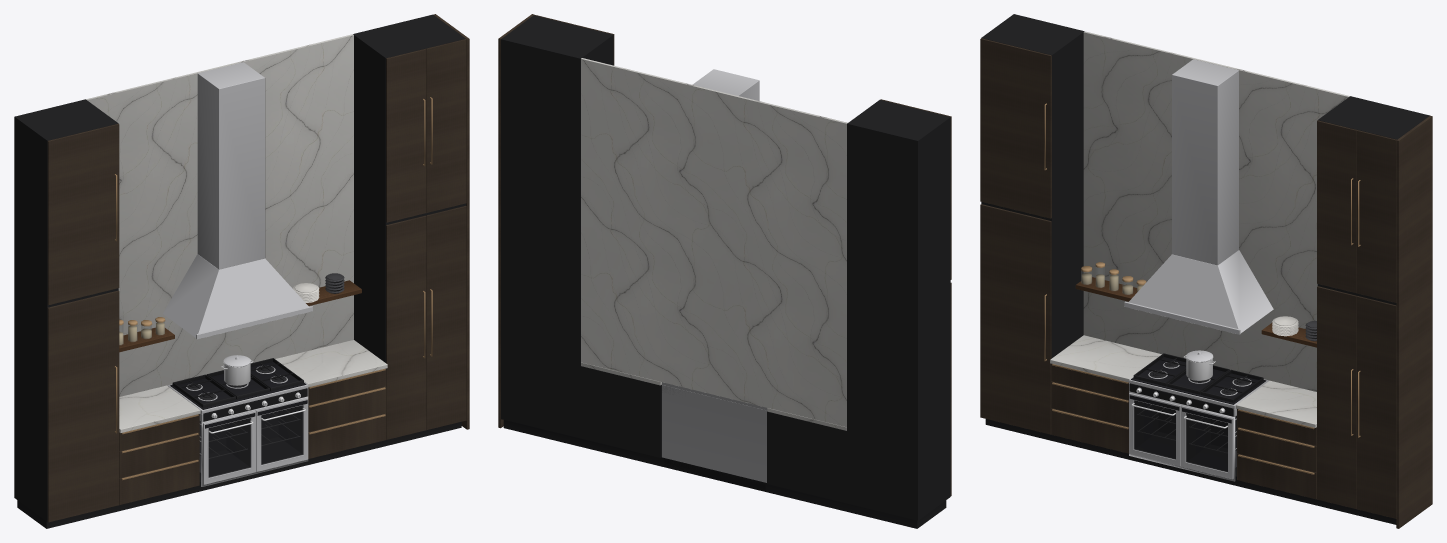
File: kitchen_range_wall.gltf
The picture shows the model from 3 angles, left to right: view 1: azimuth 30°, elevation 25°; view 2: azimuth 150°, elevation 25°; view 3: azimuth 330°, elevation 25°; orthographic projection.
Visible parts, largest first — view 1: KitchenRangeWall_Slab, KitchenRangeWall_tall_l_Lower_Door, KitchenRangeWall_tall_l_Body, KitchenRangeWall_Chimney, KitchenRangeWall_tall_r_Body, KitchenRangeWall_tall_l_Upper_Door, KitchenRangeWall_tall_r_Lower_DoorR, KitchenRangeWall_tall_r_Lower_DoorL, KitchenRangeWall_Hood, KitchenRangeWall_tall_r_Upper_DoorR, KitchenRangeWall_tall_r_Upper_DoorL, KitchenRangeWall_Counter_base_r (+22 smaller); view 2: KitchenRangeWall_Slab, KitchenRangeWall_tall_l_Body, KitchenRangeWall_tall_r_Body, KitchenRangeWall_Range_Body, KitchenRangeWall_base_r_Body, KitchenRangeWall_base_l_Body, KitchenRangeWall_Plinth, KitchenRangeWall_EndPanel, KitchenRangeWall_Chimney, KitchenRangeWall_Range_Toe; view 3: KitchenRangeWall_Slab, KitchenRangeWall_tall_l_Lower_Door, KitchenRangeWall_EndPanel, KitchenRangeWall_Chimney, KitchenRangeWall_tall_l_Body, KitchenRangeWall_tall_l_Upper_Door, KitchenRangeWall_tall_r_Lower_DoorR, KitchenRangeWall_tall_r_Lower_DoorL, KitchenRangeWall_Hood, KitchenRangeWall_tall_r_Upper_DoorR, KitchenRangeWall_tall_r_Upper_DoorL, KitchenRangeWall_Counter_base_l (+23 smaller).
Part boxes in pixels (bbox=[...]): KitchenRangeWall_Slab: bbox=[86, 34, 353, 396]; KitchenRangeWall_tall_l_Lower_Door: bbox=[47, 290, 119, 522]; KitchenRangeWall_tall_l_Body: bbox=[14, 99, 118, 521]; KitchenRangeWall_Chimney: bbox=[197, 62, 265, 269]; KitchenRangeWall_tall_r_Body: bbox=[353, 14, 465, 362]; KitchenRangeWall_tall_l_Upper_Door: bbox=[47, 123, 119, 305]; KitchenRangeWall_tall_r_Lower_DoorR: bbox=[426, 205, 466, 429]; KitchenRangeWall_tall_r_Lower_DoorL: bbox=[386, 215, 426, 439]; KitchenRangeWall_Hood: bbox=[163, 254, 308, 337]; KitchenRangeWall_tall_r_Upper_DoorR: bbox=[426, 39, 466, 212]; KitchenRangeWall_tall_r_Upper_DoorL: bbox=[386, 48, 426, 222]; KitchenRangeWall_Counter_base_r: bbox=[275, 340, 387, 387]; KitchenRangeWall_Slab: bbox=[581, 58, 847, 427]; KitchenRangeWall_tall_l_Body: bbox=[847, 100, 950, 520]; KitchenRangeWall_tall_r_Body: bbox=[501, 15, 613, 438]; KitchenRangeWall_Range_Body: bbox=[662, 385, 767, 482]; KitchenRangeWall_base_r_Body: bbox=[580, 366, 661, 457]; KitchenRangeWall_base_l_Body: bbox=[767, 411, 846, 503]; KitchenRangeWall_Plinth: bbox=[503, 420, 946, 528]; KitchenRangeWall_EndPanel: bbox=[498, 14, 534, 428]; KitchenRangeWall_Chimney: bbox=[692, 69, 759, 100]; KitchenRangeWall_Range_Toe: bbox=[664, 458, 765, 491]; KitchenRangeWall_Slab: bbox=[1083, 31, 1349, 391]; KitchenRangeWall_tall_l_Lower_Door: bbox=[980, 204, 1051, 434]; KitchenRangeWall_EndPanel: bbox=[1396, 115, 1432, 528]; KitchenRangeWall_Chimney: bbox=[1172, 59, 1238, 265]; KitchenRangeWall_tall_l_Body: bbox=[981, 14, 1084, 358]; KitchenRangeWall_tall_l_Upper_Door: bbox=[980, 38, 1051, 218]; KitchenRangeWall_tall_r_Lower_DoorR: bbox=[1356, 296, 1396, 518]; KitchenRangeWall_tall_r_Lower_DoorL: bbox=[1317, 286, 1356, 508]; KitchenRangeWall_Hood: bbox=[1128, 250, 1273, 333]; KitchenRangeWall_tall_r_Upper_DoorR: bbox=[1356, 130, 1396, 302]; KitchenRangeWall_tall_r_Upper_DoorL: bbox=[1317, 120, 1356, 293]; KitchenRangeWall_Counter_base_l: bbox=[1050, 335, 1161, 382].
Bounding box in the file's own units: 4.73 × 4.19 × 0.7729.
15 materials, 3 textured.
